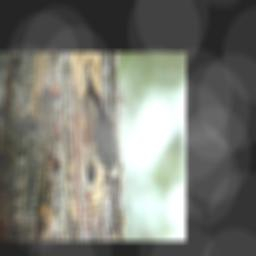Woodpecker: (78, 67, 124, 194)
